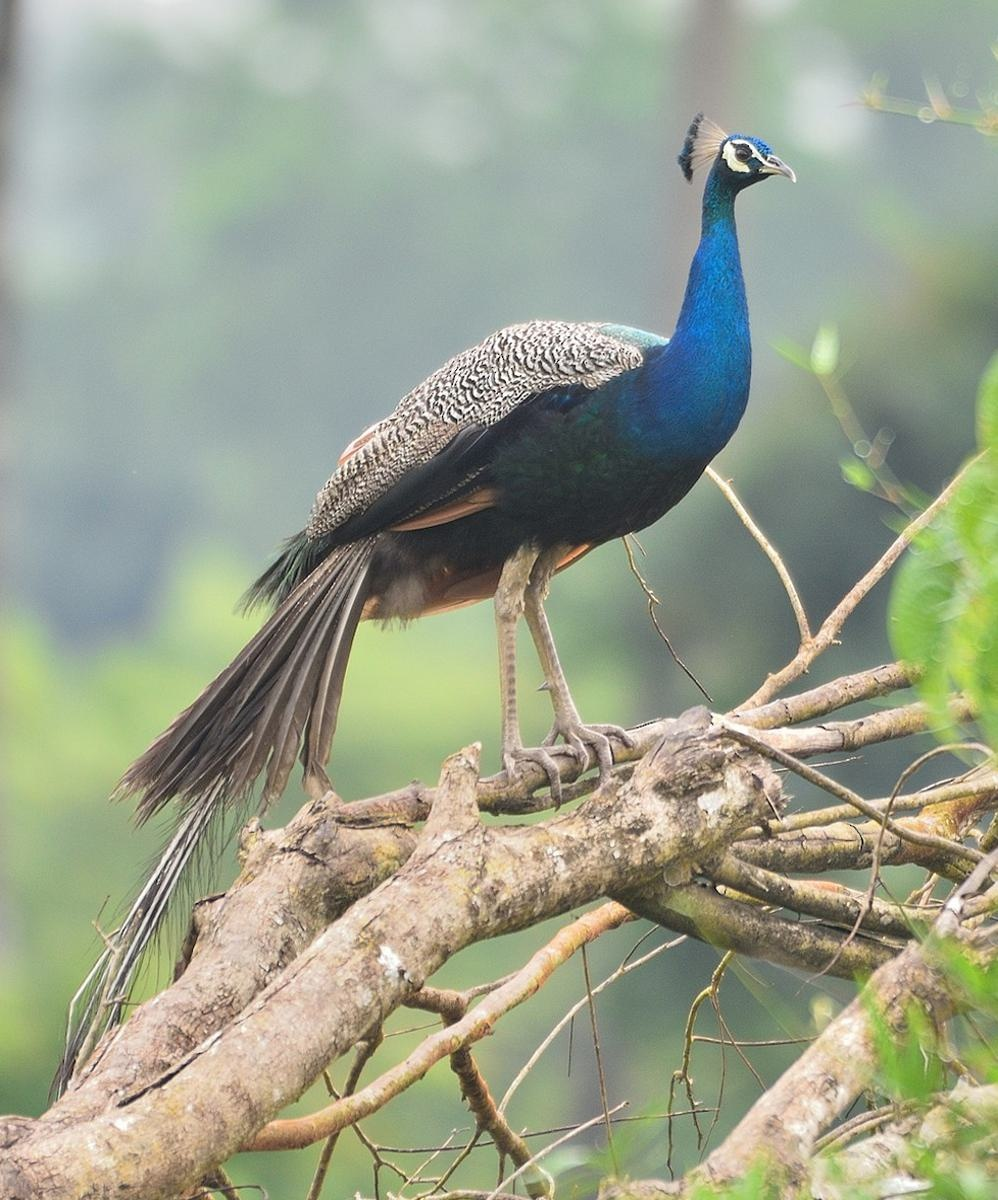peacock: (189, 114, 818, 901)
